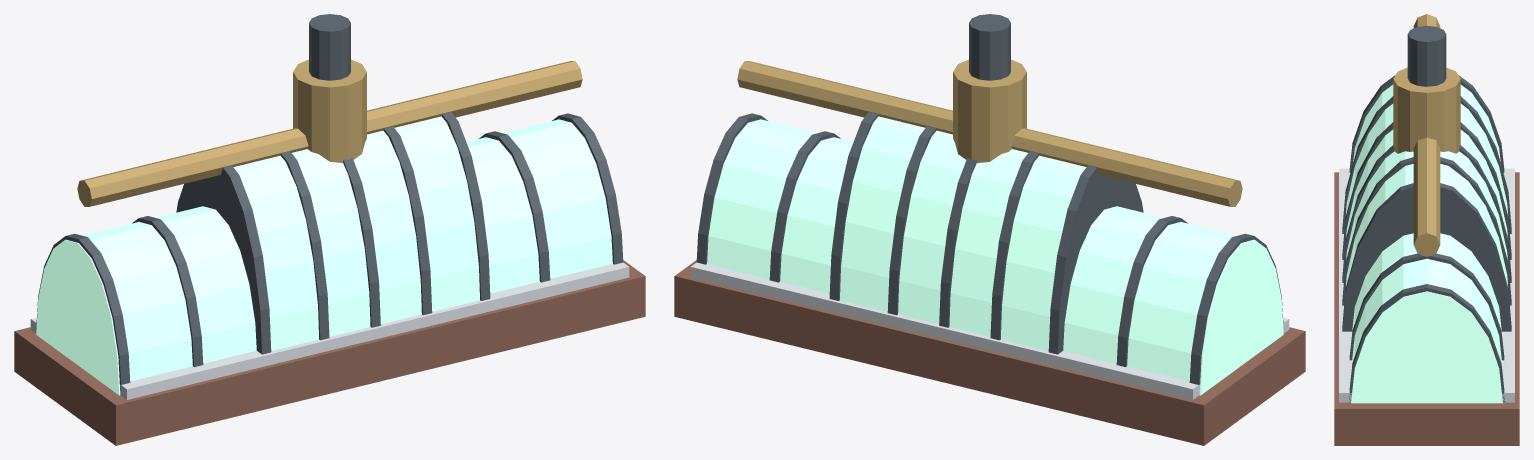
File: industrial_hothouse.glb
3 views of the same model, side by side, from view 1: azimuth 30°, elevation 25°; view 2: azimuth 150°, elevation 25°; view 3: azimuth 270°, elevation 25° (orthographic). The views are drawn at different scales.
Visible parts, largest first — view 1: IndustrialHothouse; view 2: IndustrialHothouse; view 3: IndustrialHothouse.
Boxes of the visible parts, left/top/right/bottom form: IndustrialHothouse: left=14, top=14, right=645, bottom=445; IndustrialHothouse: left=674, top=14, right=1305, bottom=445; IndustrialHothouse: left=1334, top=14, right=1519, bottom=445.
Size of the model in its own units: 4.64 by 2.69 by 1.54.
